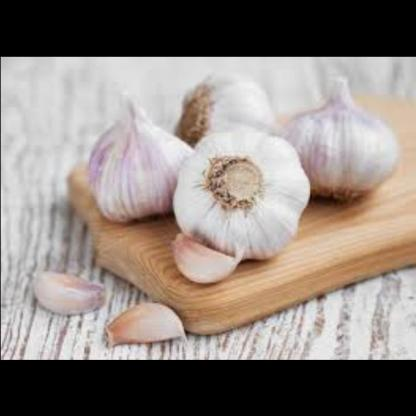garlic: (172, 120, 311, 266), (275, 66, 398, 210), (77, 84, 197, 219), (170, 67, 302, 178), (162, 229, 244, 292), (23, 256, 102, 321), (92, 304, 184, 354)
